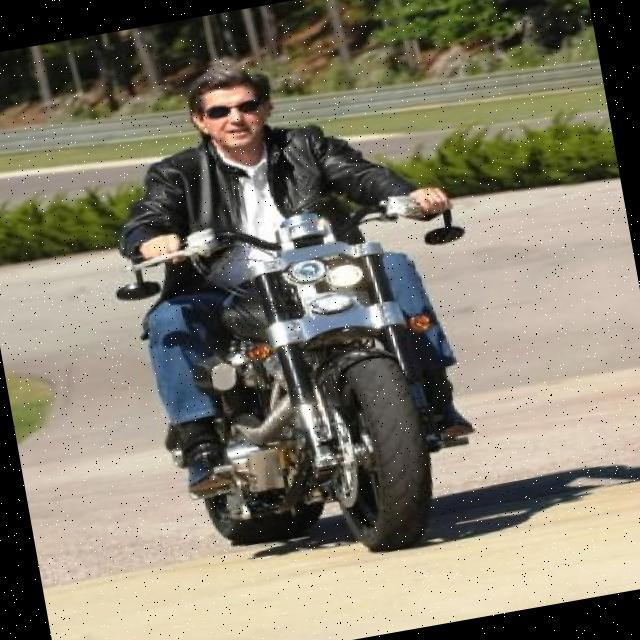No helmet: (182, 47, 283, 156)
